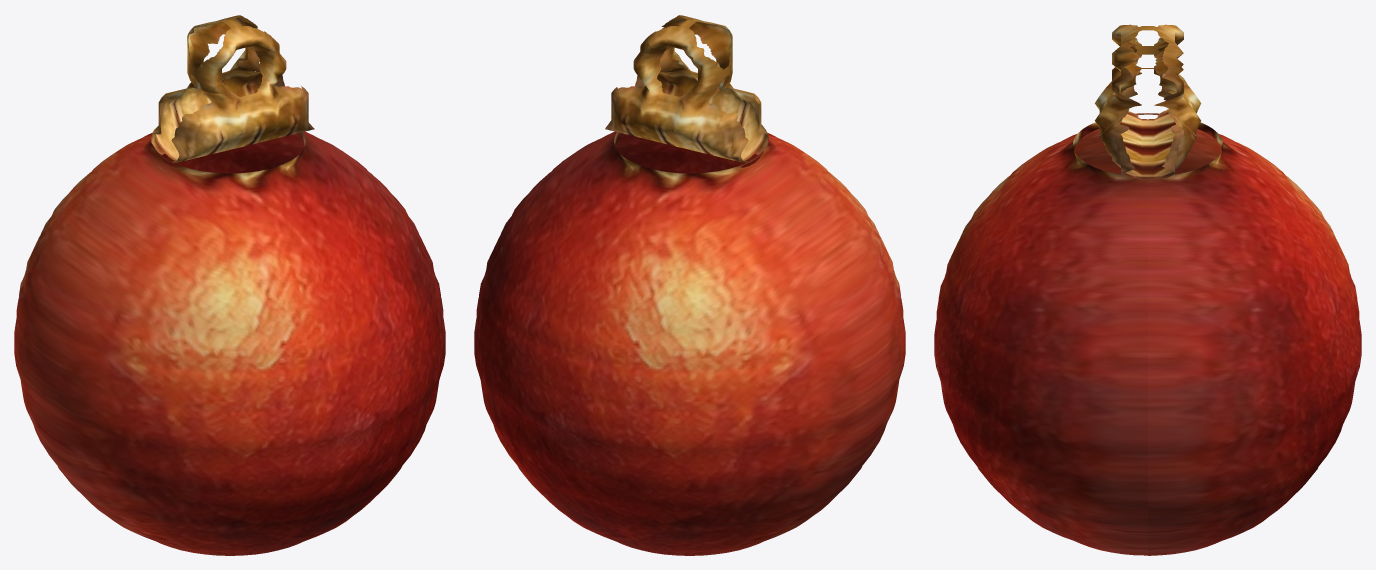
File: Item_red.glb
The picture shows the model from 3 angles, left to right: view 1: azimuth 30°, elevation 25°; view 2: azimuth 150°, elevation 25°; view 3: azimuth 270°, elevation 25°; orthographic projection.
Visible parts, largest first — view 1: Lacquered glass, Item_red carving; view 2: Lacquered glass, Item_red carving; view 3: Lacquered glass, Item_red carving.
Part boxes in pixels (x1,y1,x2,y2): Lacquered glass: (14, 131, 445, 555); Item_red carving: (151, 15, 314, 162); Lacquered glass: (474, 131, 905, 555); Item_red carving: (605, 15, 768, 162); Lacquered glass: (934, 113, 1361, 555); Item_red carving: (1095, 24, 1201, 179).
Size of the model in its own units: 0.2167 by 0.2852 by 0.2166.
1 material, 1 textured.
